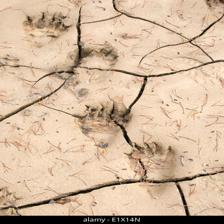bear: (74, 100, 133, 156), (126, 143, 179, 194)
